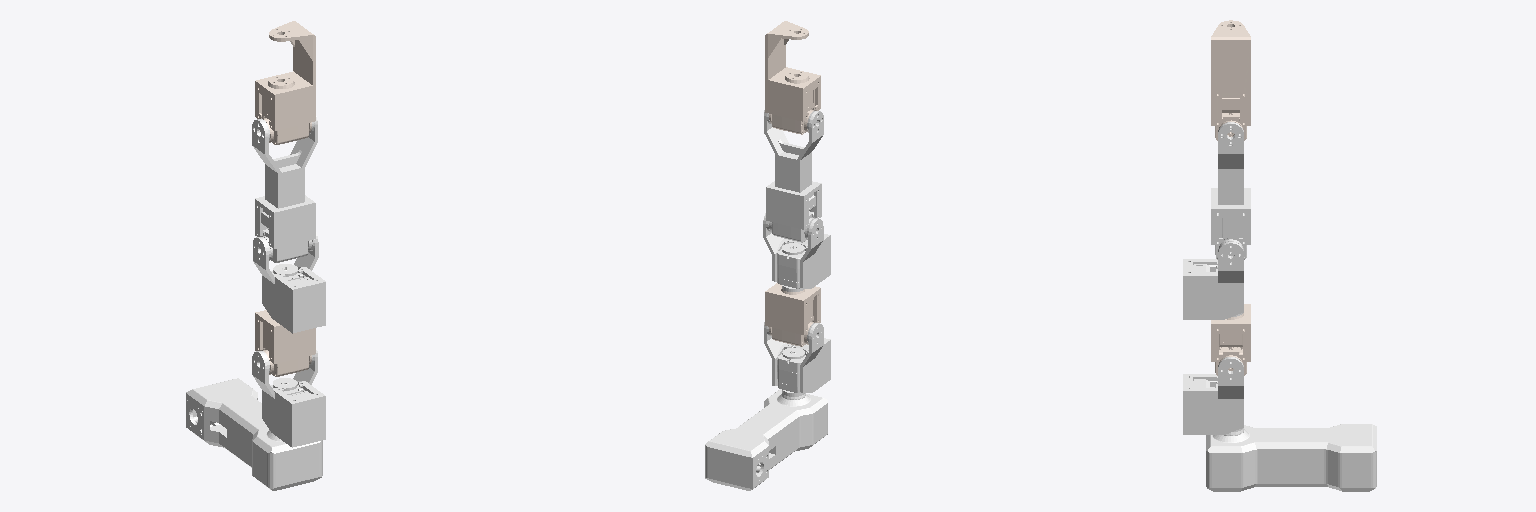
robot.urdf — tea_leader_right:
<?xml version="1.0" ?>
<robot name="tea_leader_right">
    <!--
    SerialArm-Core 右主臂模型
    - 保留 CAD 导出的关节原点、连杆质量、质心和惯量参数
    - right_joint1..right_joint6 均按转动关节建模
    - 关节轴方向已完成 RViz 与实物校准
    - 当前关节范围仍为执行器级临时范围，不代表最终机械限位
    -->
    <link name="base_link">
        <inertial>
            <origin xyz="-6.7673E-07 -7.6283E-05 0.18515" rpy="0 0 0"/>
            <mass value="1.1647"/>
            <inertia ixx="0.0050018" ixy="3.9922E-09" ixz="-5.4213E-08" iyy="0.0054966" iyz="2.833E-07" izz="0.0029097"/>
        </inertial>
        <visual>
            <origin xyz="0 0 0" rpy="0 0 0"/>
            <geometry>
                <mesh filename="package://tea_leader_description/model/right/meshes/base_link.STL"/>
            </geometry>
            <material name="">
                <color rgba="1 1 1 1"/>
            </material>
        </visual>
        <collision>
            <origin xyz="0 0 0" rpy="0 0 0"/>
            <geometry>
                <mesh filename="package://tea_leader_description/model/right/meshes/base_link.STL"/>
            </geometry>
        </collision>
    </link>
    <link name="right_link1">
        <inertial>
            <origin xyz="0.005061 -5.8358E-05 0.016645" rpy="0 0 0"/>
            <mass value="0.0155"/>
            <inertia ixx="1.6818E-05" ixy="-2.8728E-09" ixz="1.8777E-06" iyy="1.6555E-05" iyz="-1.9969E-09" izz="6.6849E-06"/>
        </inertial>
        <visual>
            <origin xyz="0 0 0" rpy="0 0 0"/>
            <geometry>
                <mesh filename="package://tea_leader_description/model/right/meshes/right_link1.STL"/>
            </geometry>
            <material name="">
                <color rgba="1 0.94902 0.9098 1"/>
            </material>
        </visual>
        <collision>
            <origin xyz="0 0 0" rpy="0 0 0"/>
            <geometry>
                <mesh filename="package://tea_leader_description/model/right/meshes/right_link1.STL"/>
            </geometry>
        </collision>
    </link>
    <joint name="right_joint1" type="revolute">
        <origin xyz="0.137859999999899 0 0.422999999999998" rpy="-3.14159265358979 0 0"/>
        <parent link="base_link"/>
        <child link="right_link1"/>
        <axis xyz="0 0 -1"/>
        <limit lower="-3.141592654" upper="3.140058673" effort="0.8" velocity="10.471976"/>
    </joint>
    <link name="right_link2">
        <inertial>
            <origin xyz="-4.2075E-05 -0.067709 0.019656" rpy="0 0 0"/>
            <mass value="0.0855"/>
            <inertia ixx="3.1405E-05" ixy="1.9967E-09" ixz="2.8728E-09" iyy="9.3153E-06" iyz="-8.9276E-08" izz="2.9592E-05"/>
        </inertial>
        <visual>
            <origin xyz="0 0 0" rpy="0 0 0"/>
            <geometry>
                <mesh filename="package://tea_leader_description/model/right/meshes/right_link2.STL"/>
            </geometry>
            <material name="">
                <color rgba="1 1 1 1"/>
            </material>
        </visual>
        <collision>
            <origin xyz="0 0 0" rpy="0 0 0"/>
            <geometry>
                <mesh filename="package://tea_leader_description/model/right/meshes/right_link2.STL"/>
            </geometry>
        </collision>
    </link>
    <joint name="right_joint2" type="revolute">
        <origin xyz="-0.0155999999999976 0 0.0413117039076965" rpy="-1.5707963267949 0 -1.5707963267949"/>
        <parent link="right_link1"/>
        <child link="right_link2"/>
        <axis xyz="0 0 -1"/>
        <limit lower="-3.141592654" upper="3.140058673" effort="0.8" velocity="10.471976"/>
    </joint>
    <link name="right_link3">
        <inertial>
            <origin xyz="0.012825 -0.037347 0.019106" rpy="0 0 0"/>
            <mass value="0.0736"/>
            <inertia ixx="1.3337E-05" ixy="2.6132E-06" ixz="-2.0114E-09" iyy="1.4467E-05" iyz="2.8728E-09" izz="1.5803E-05"/>
        </inertial>
        <visual>
            <origin xyz="0 0 0" rpy="0 0 0"/>
            <geometry>
                <mesh filename="package://tea_leader_description/model/right/meshes/right_link3.STL"/>
            </geometry>
            <material name="">
                <color rgba="1 1 1 1"/>
            </material>
        </visual>
        <collision>
            <origin xyz="0 0 0" rpy="0 0 0"/>
            <geometry>
                <mesh filename="package://tea_leader_description/model/right/meshes/right_link3.STL"/>
            </geometry>
        </collision>
    </link>
    <joint name="right_joint3" type="revolute">
        <origin xyz="0 -0.103514101614937 0.0385500000000054" rpy="3.14159265358979 0 3.14159265358979"/>
        <parent link="right_link2"/>
        <child link="right_link3"/>
        <axis xyz="0 0 -1"/>
        <limit lower="-3.141592654" upper="3.140058673" effort="0.8" velocity="10.471976"/>
    </joint>
    <link name="right_link4">
        <inertial>
            <origin xyz="-0.0010771 6.9112E-05 -0.023665" rpy="0 0 0"/>
            <mass value="0.0671"/>
            <inertia ixx="7.895E-06" ixy="2.8728E-09" ixz="-5.3815E-08" iyy="7.033E-06" iyz="-1.9969E-09" izz="5.1078E-06"/>
        </inertial>
        <visual>
            <origin xyz="0 0 0" rpy="0 0 0"/>
            <geometry>
                <mesh filename="package://tea_leader_description/model/right/meshes/right_link4.STL"/>
            </geometry>
            <material name="">
                <color rgba="1 0.94902 0.9098 1"/>
            </material>
        </visual>
        <collision>
            <origin xyz="0 0 0" rpy="0 0 0"/>
            <geometry>
                <mesh filename="package://tea_leader_description/model/right/meshes/right_link4.STL"/>
            </geometry>
        </collision>
    </link>
    <joint name="right_joint4" type="revolute">
        <origin xyz="2.9637413439806E-05 -0.0601641016151397 0.0190500000000072" rpy="-1.5707963267949 1.5707963267949 0"/>
        <parent link="right_link3"/>
        <child link="right_link4"/>
        <axis xyz="0 0 1"/>
        <limit lower="-3.141592654" upper="3.140058673" effort="0.8" velocity="10.471976"/>
    </joint>
    <link name="right_link5">
        <inertial>
            <origin xyz="-0.01281 0.03735 -0.018994" rpy="0 0 0"/>
            <mass value="0.0736"/>
            <inertia ixx="1.3336E-05" ixy="2.6129E-06" ixz="2.0114E-09" iyy="1.4467E-05" iyz="-2.8728E-09" izz="1.5802E-05"/>
        </inertial>
        <visual>
            <origin xyz="0 0 0" rpy="0 0 0"/>
            <geometry>
                <mesh filename="package://tea_leader_description/model/right/meshes/right_link5.STL"/>
            </geometry>
            <material name="">
                <color rgba="1 1 1 1"/>
            </material>
        </visual>
        <collision>
            <origin xyz="0 0 0" rpy="0 0 0"/>
            <geometry>
                <mesh filename="package://tea_leader_description/model/right/meshes/right_link5.STL"/>
            </geometry>
        </collision>
    </link>
    <joint name="right_joint5" type="revolute">
        <origin xyz="-0.0195000000000008 0 -0.0401117039076997" rpy="-1.5707963267949 0 1.5707963267949"/>
        <parent link="right_link4"/>
        <child link="right_link5"/>
        <axis xyz="0 0 1"/>
        <limit lower="-3.141592654" upper="3.140058673" effort="0.8" velocity="10.471976"/>
    </joint>
    <link name="right_link6">
        <inertial>
            <origin xyz="0.00065653 -0.050699 0.02624" rpy="0 0 0"/>
            <mass value="0.0951"/>
            <inertia ixx="0.00032525" ixy="7.543E-06" ixz="-1.3229E-07" iyy="5.5913E-05" iyz="4.3591E-06" izz="0.00032967"/>
        </inertial>
        <visual>
            <origin xyz="0 0 0" rpy="0 0 0"/>
            <geometry>
                <mesh filename="package://tea_leader_description/model/right/meshes/right_link6.STL"/>
            </geometry>
            <material name="">
                <color rgba="1 1 1 1"/>
            </material>
        </visual>
        <collision>
            <origin xyz="0 0 0" rpy="0 0 0"/>
            <geometry>
                <mesh filename="package://tea_leader_description/model/right/meshes/right_link6.STL"/>
            </geometry>
        </collision>
    </link>
    <joint name="right_joint6" type="revolute">
        <origin xyz="0 0.0601641016152488 -0.0190500000001287" rpy="-1.5707963267949 1.5707963267949 0"/>
        <parent link="right_link5"/>
        <child link="right_link6"/>
        <axis xyz="0 0 -1"/>
        <limit lower="-3.141592654" upper="3.140058673" effort="0.8" velocity="10.471976"/>
    </joint>
</robot>

--- What the picture shows (computed from the rendered views, not written in the file) ---
Views: 3 orthographic renders of the robot side by side, from view 1: azimuth 30°, elevation 25°; view 2: azimuth 150°, elevation 25°; view 3: azimuth 270°, elevation 25°.
Robot: tea_leader_right — 7 links, 6 joints (6 revolute); root link base_link; default pose: every joint at zero.
Links seen in each view (by area): view 1: right_link6, right_link2, right_link1, right_link5, right_link3, right_link4; view 2: right_link6, right_link2, right_link1, right_link3, right_link5, right_link4; view 3: right_link6, right_link1, right_link3, right_link5, right_link2, right_link4.
Boxes of the visible links, bbox=[...] form: right_link6: bbox=[186, 378, 322, 490]; right_link2: bbox=[252, 116, 317, 262]; right_link1: bbox=[255, 21, 315, 144]; right_link5: bbox=[252, 348, 325, 447]; right_link3: bbox=[253, 232, 325, 333]; right_link4: bbox=[255, 310, 315, 376]; right_link6: bbox=[705, 389, 827, 490]; right_link2: bbox=[764, 110, 823, 242]; right_link1: bbox=[765, 21, 820, 134]; right_link3: bbox=[763, 213, 830, 291]; right_link5: bbox=[764, 322, 830, 396]; right_link4: bbox=[765, 283, 820, 346]; right_link6: bbox=[1206, 424, 1376, 491]; right_link1: bbox=[1211, 20, 1250, 140]; right_link3: bbox=[1183, 241, 1243, 319]; right_link5: bbox=[1183, 357, 1243, 434]; right_link2: bbox=[1211, 122, 1250, 259]; right_link4: bbox=[1211, 304, 1250, 375].
Size in the robot's own frame: 0.05 by 0.153 by 0.3936 metres.
6 mesh visuals loaded from 7 distinct referenced files (6 binary STL); not drawn: 1 (reference not matched to a file when rendering).
